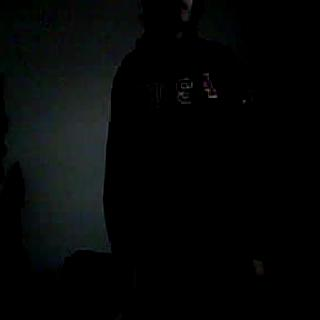Gray Sweatpants: (139, 241, 237, 320)
HOSA hoodie: (104, 37, 264, 243)
